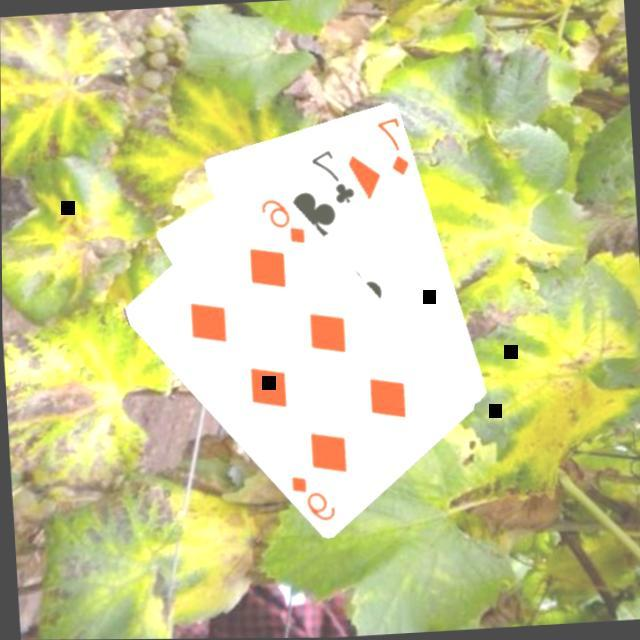6D: (259, 194, 311, 250), (288, 470, 340, 526)
7C: (308, 146, 359, 209)
7D: (374, 115, 413, 181)
